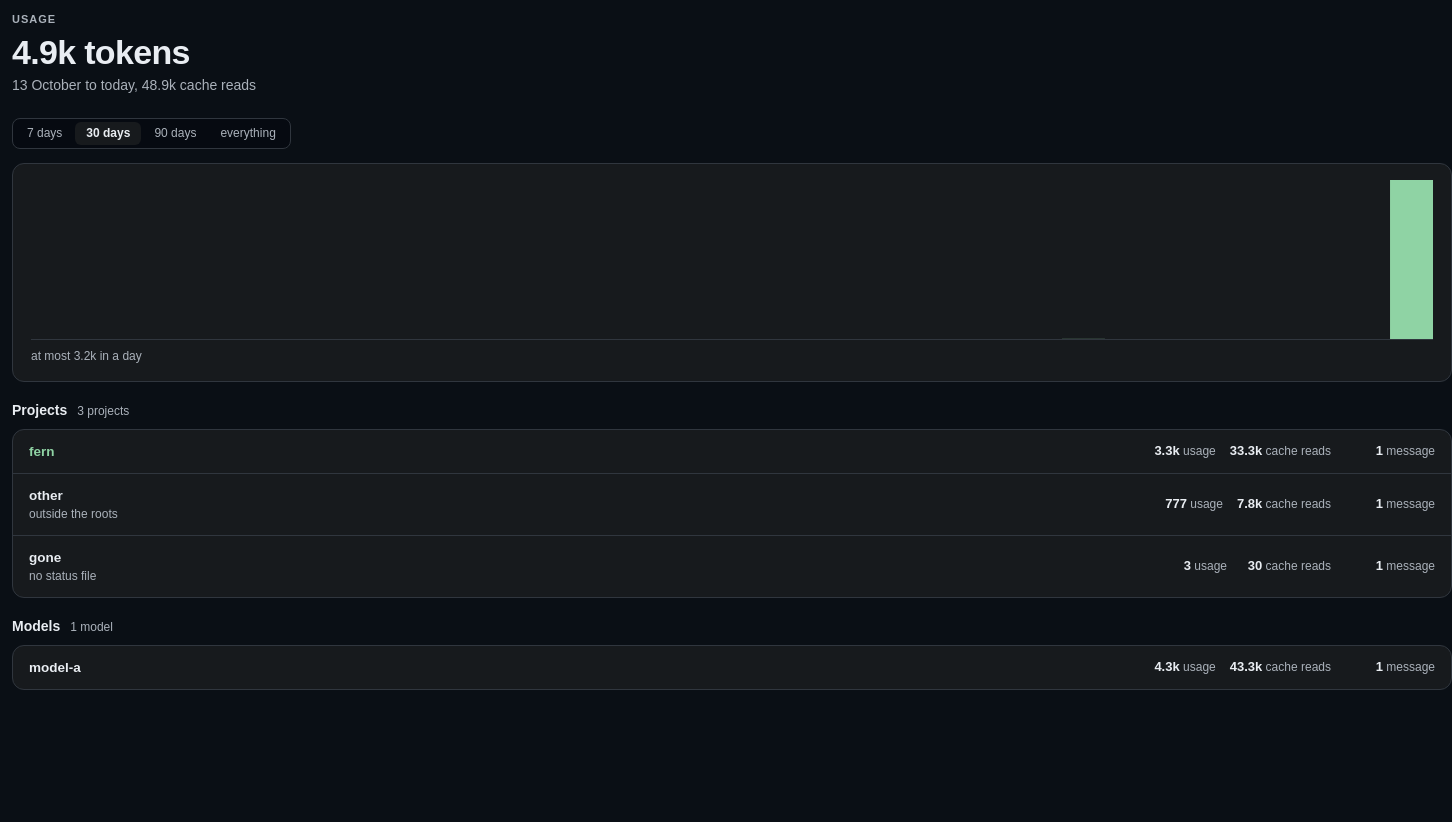
Scenario: usage is shown per project and per model, for a chosen period
Expected: the heading "4.9k tokens" is shown, [12,34,190,71]
Expected: the text "13 October to today, 48.9k cache reads" is shown, [12,77,256,93]
Click the link "fern": (42, 451) [29,444,54,459]
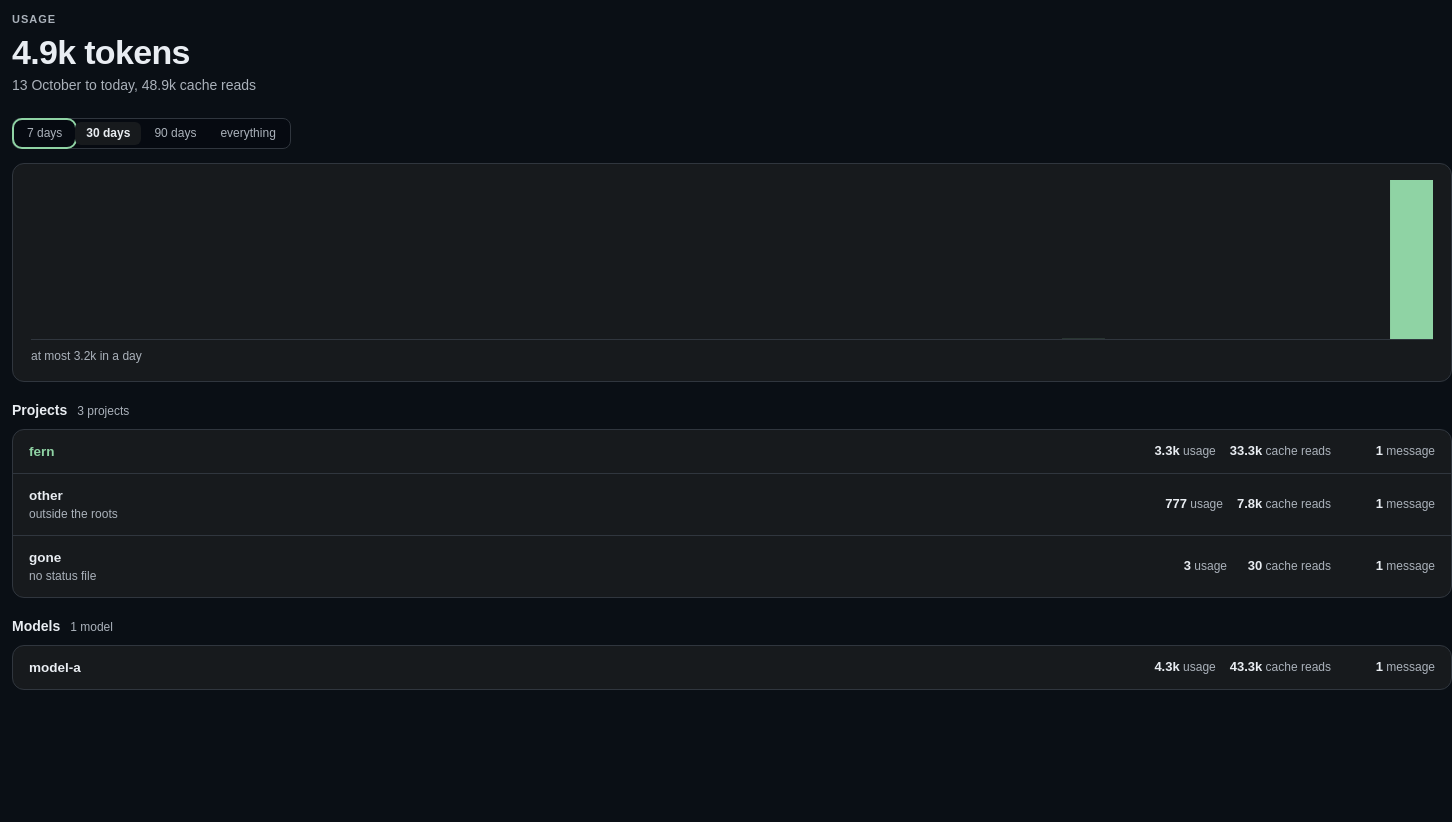
Expected: the list item "model-a 4.3k usage 43.3k cache reads 1 message" is shown, [29,659,1435,675]
Click the button "7 days": (45, 133) [16,122,73,145]
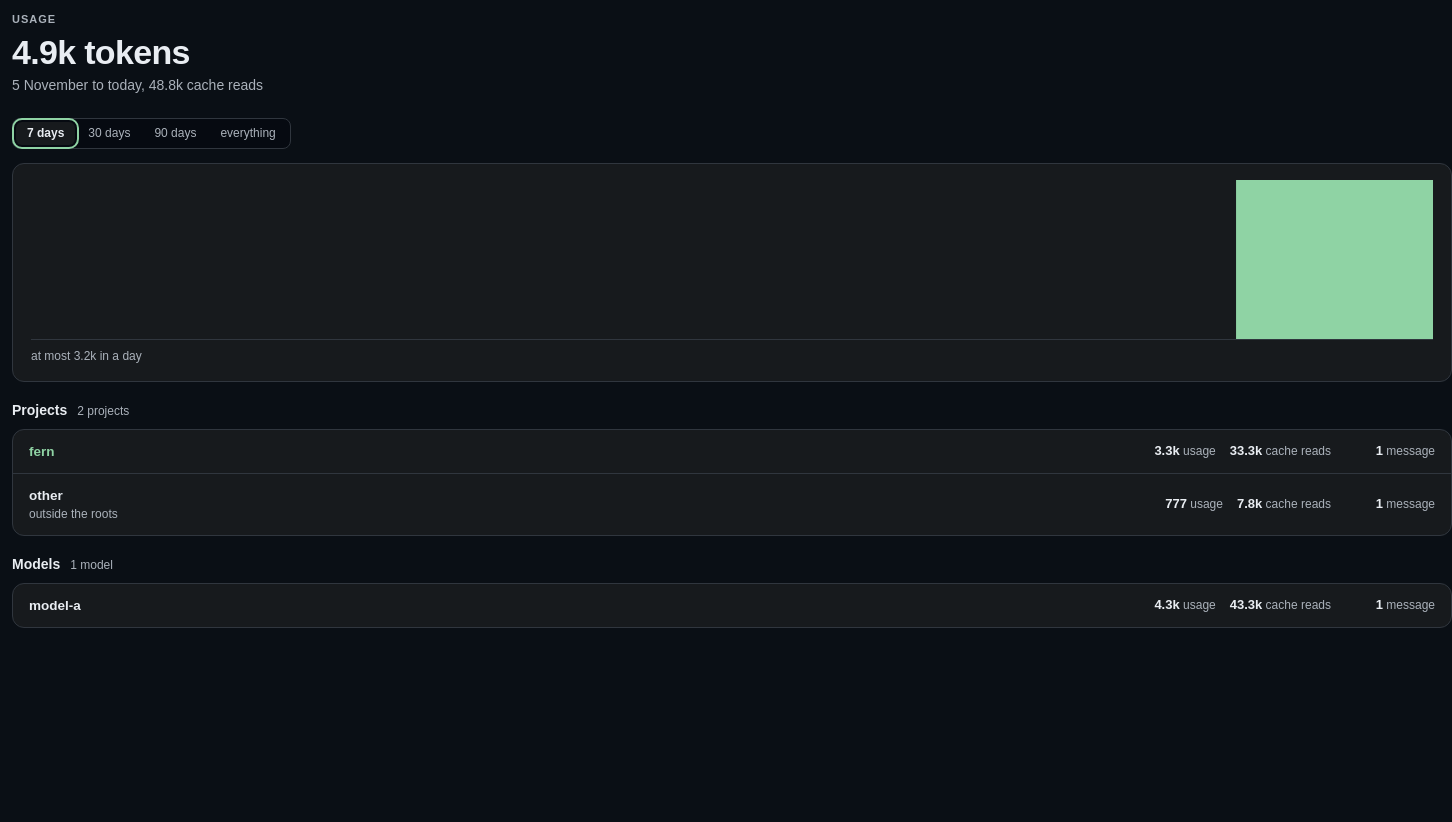
Now the text "5 November to today, 48.8k cache reads" is shown, box [12,77,263,93]
Click the button "everything": (248, 133) [209,122,287,145]
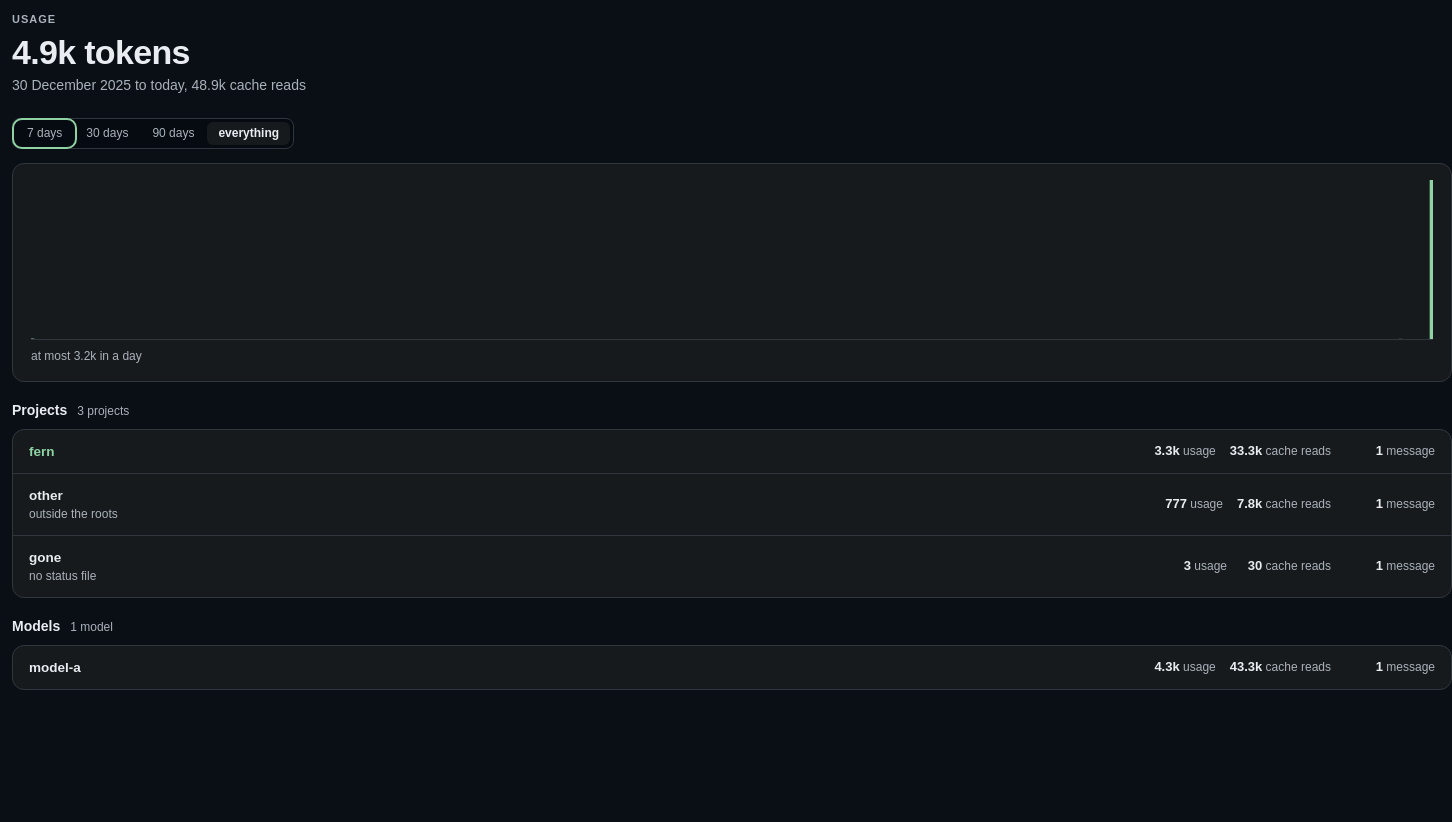
Now the text "30 December 2025 to today, 48.9k cache reads" is shown, box [12,77,306,93]
